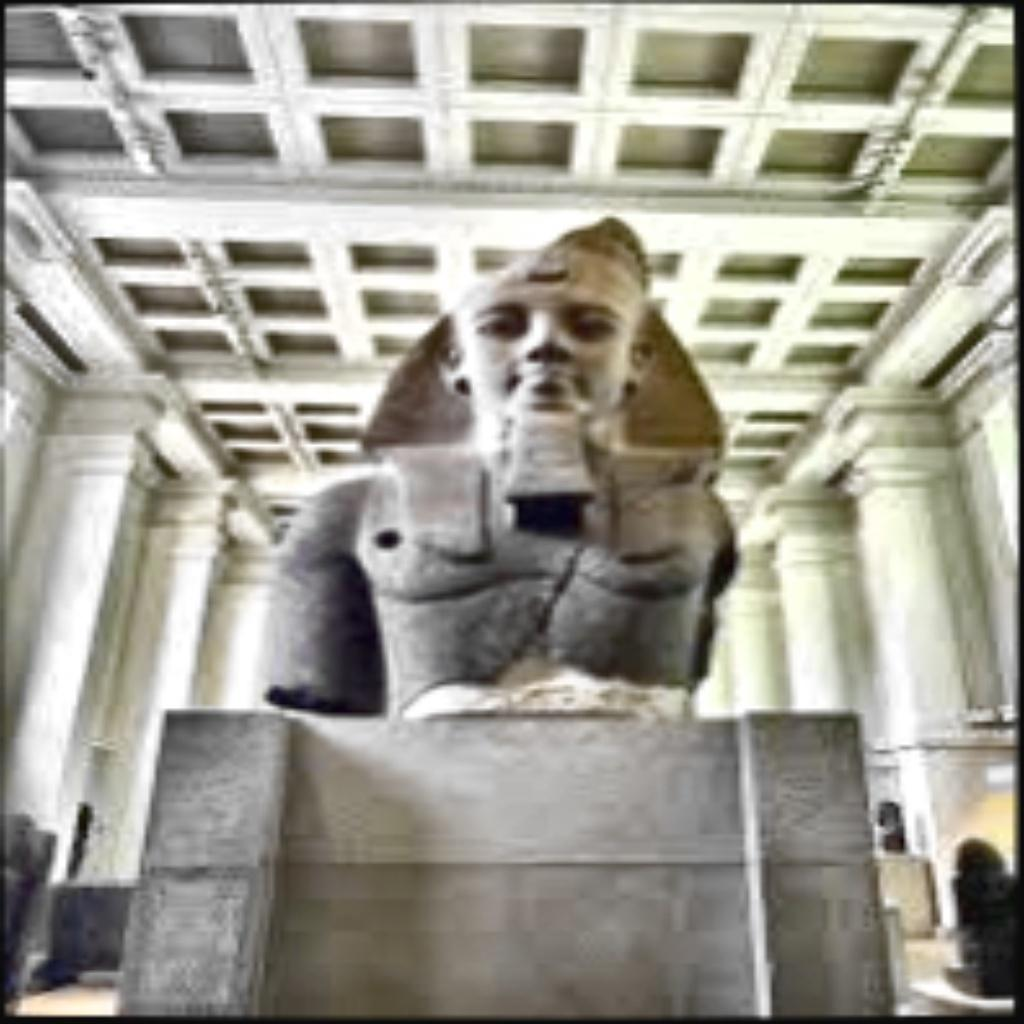bust of Ramesses II: (254, 214, 740, 718)
